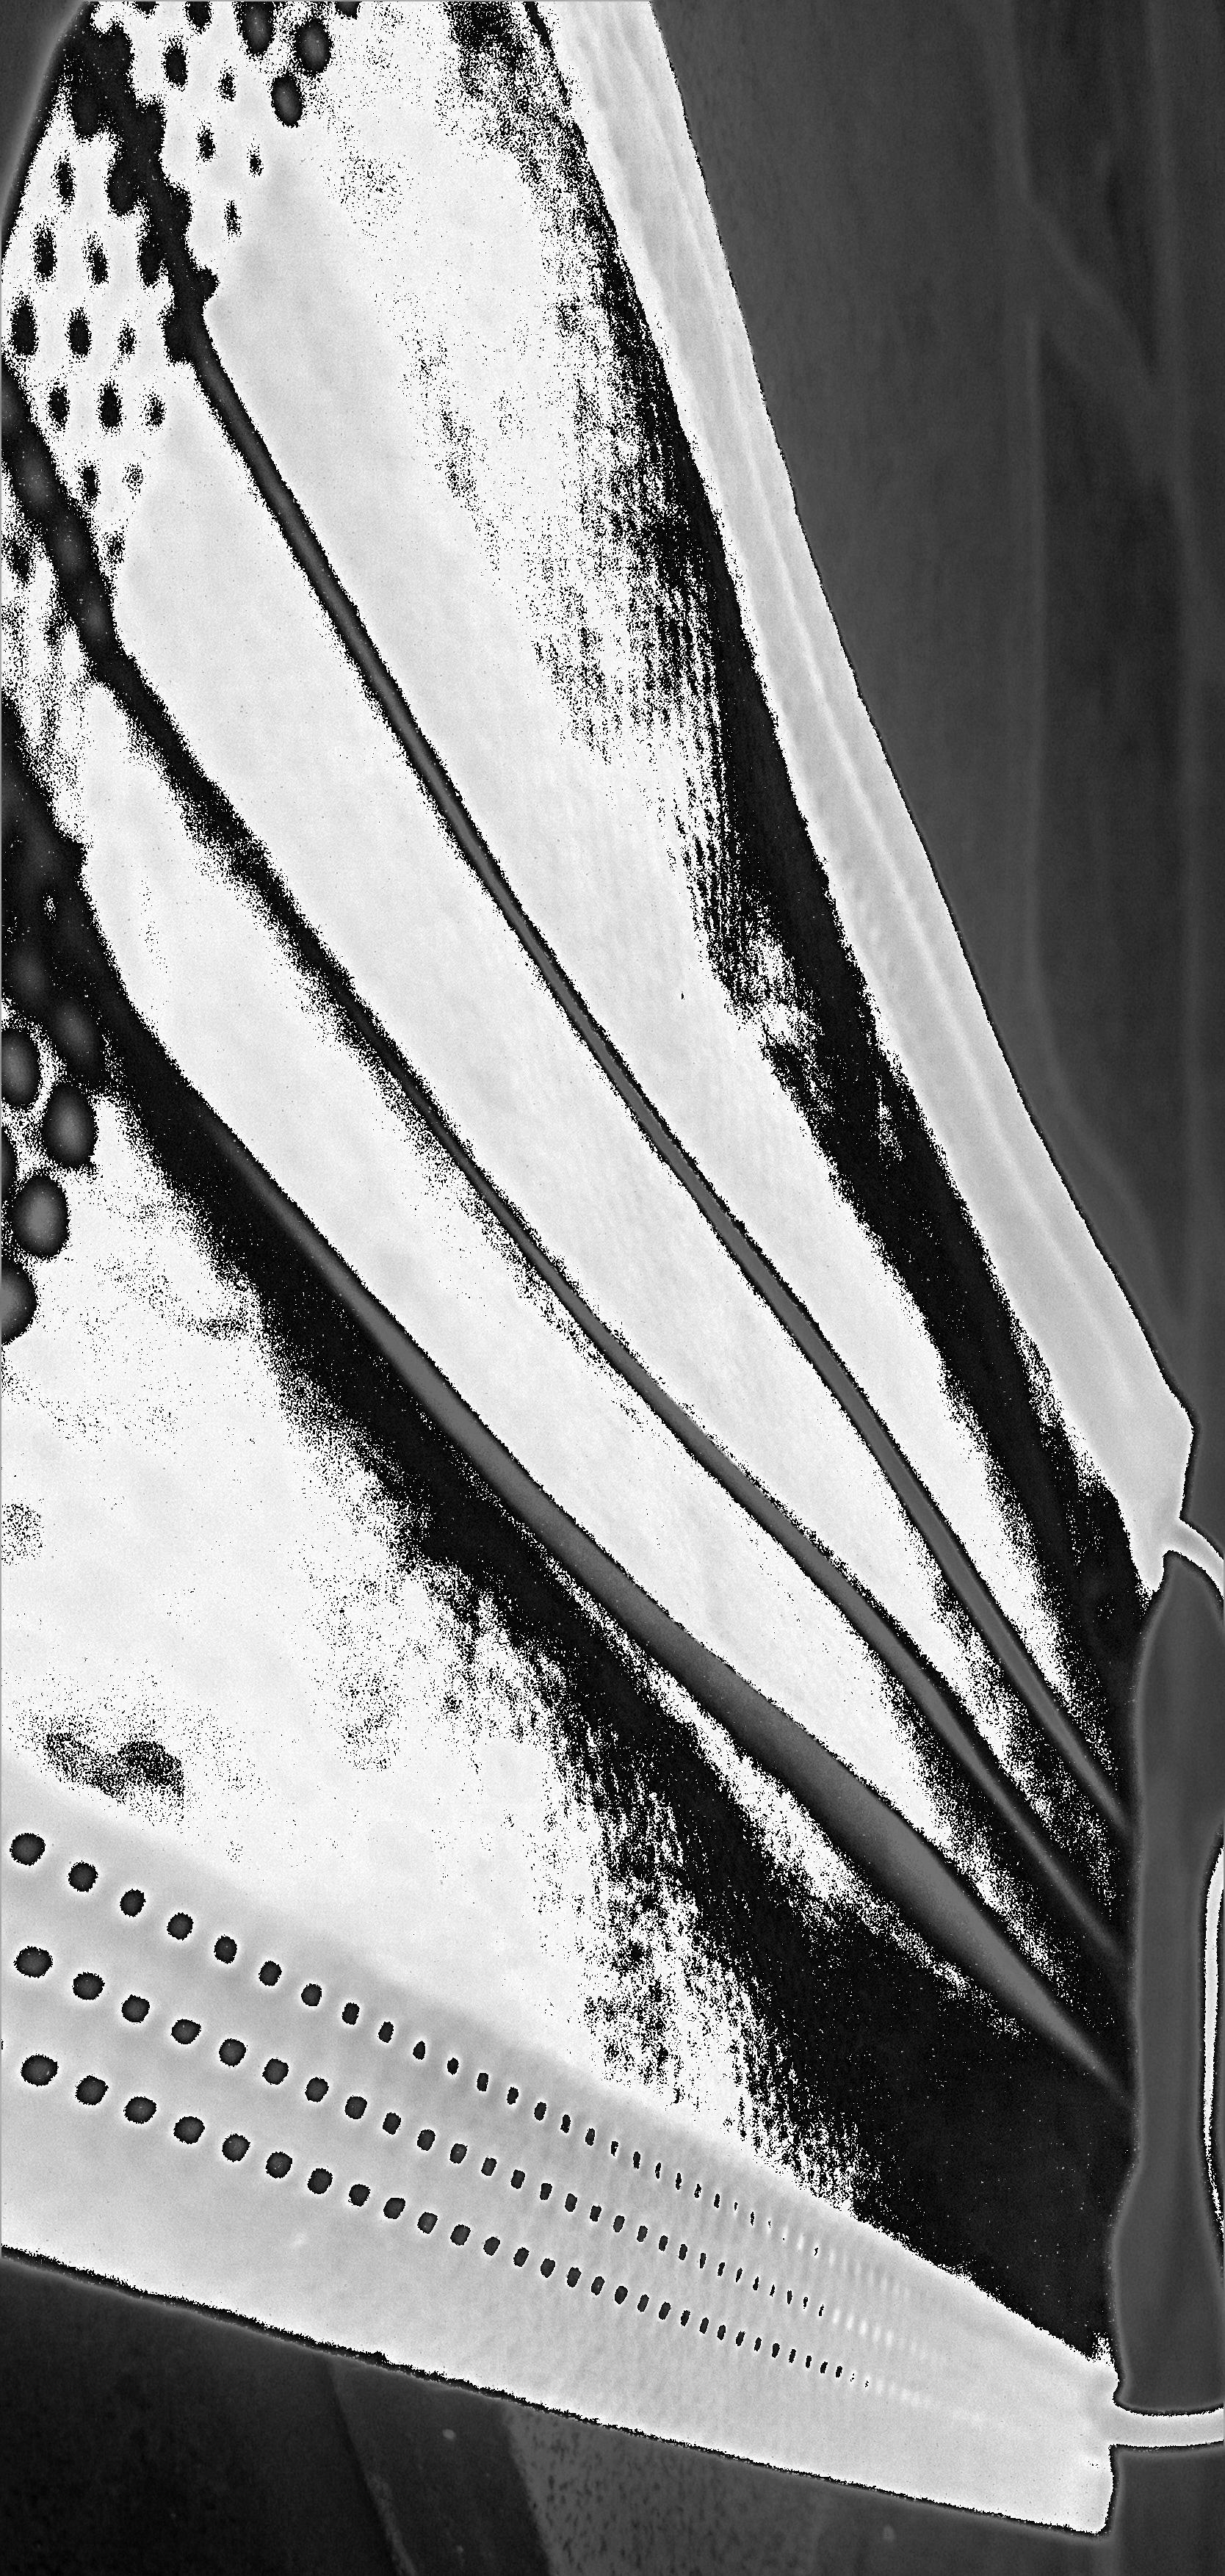High GSM: (374, 307, 993, 2078)
